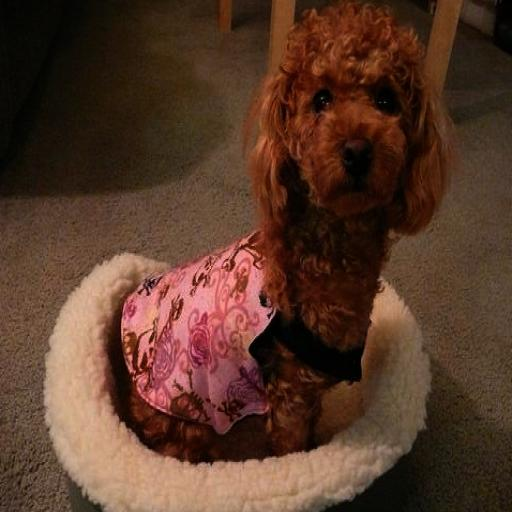dog_face: (253, 8, 444, 227)
